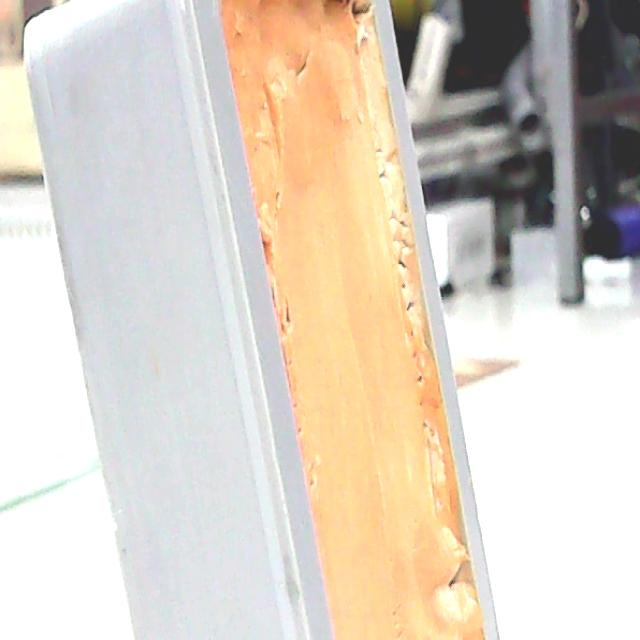block: (16, 0, 501, 640)
